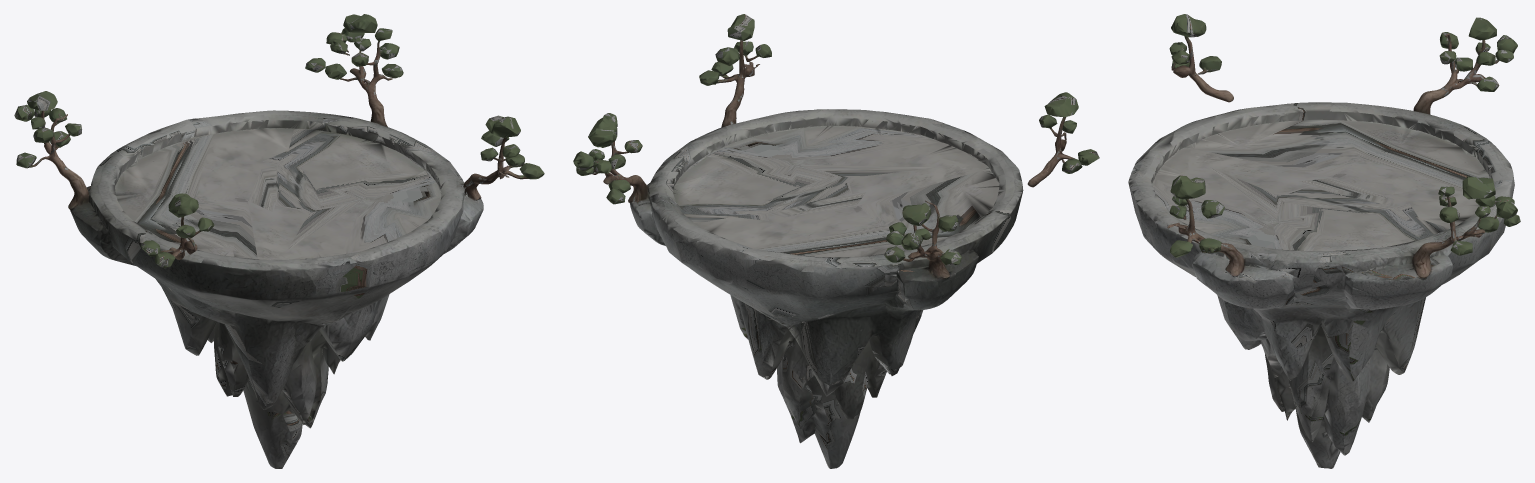
Rendered from rock-island.glb.
3 views of the same model, side by side, from view 1: azimuth 30°, elevation 25°; view 2: azimuth 150°, elevation 25°; view 3: azimuth 270°, elevation 25° (orthographic). The views are drawn at different scales.
Parts seen in each view (by area): view 1: Granite Pine Aerie; view 2: Granite Pine Aerie; view 3: Granite Pine Aerie.
Boxes of the visible parts, x1,y1,x2,y2 form: Granite Pine Aerie: [14, 14, 544, 468]; Granite Pine Aerie: [573, 14, 1099, 468]; Granite Pine Aerie: [1128, 14, 1520, 468].
Bounding box in the file's own units: 1.89 × 1.7 × 1.63.
1 material, 1 textured.
